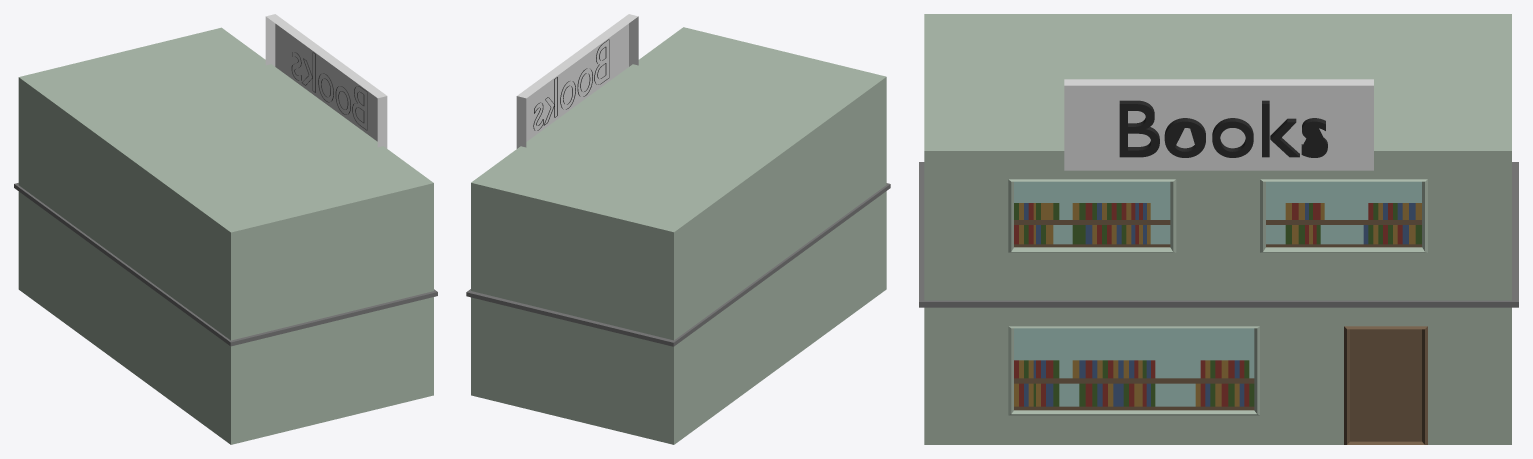
File: BOOKSTORE_REDUCED.fbx
3 renders of one model, left to right at view 1: azimuth 30°, elevation 25°; view 2: azimuth 150°, elevation 25°; view 3: azimuth 270°, elevation 25°, orthographic. The views are drawn at different scales.
Parts seen in each view (by area): view 1: Book store; view 2: Book store; view 3: Book store.
Boxes of the visible parts, x1=… form: Book store: x1=14, y1=14, x2=437, y2=444; Book store: x1=466, y1=14, x2=890, y2=444; Book store: x1=919, y1=14, x2=1518, y2=444.
Size of the model in its own units: 731 by 852 by 1279.
